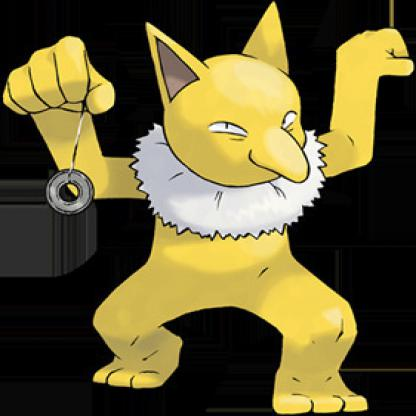Hypno: (1, 10, 416, 415)
